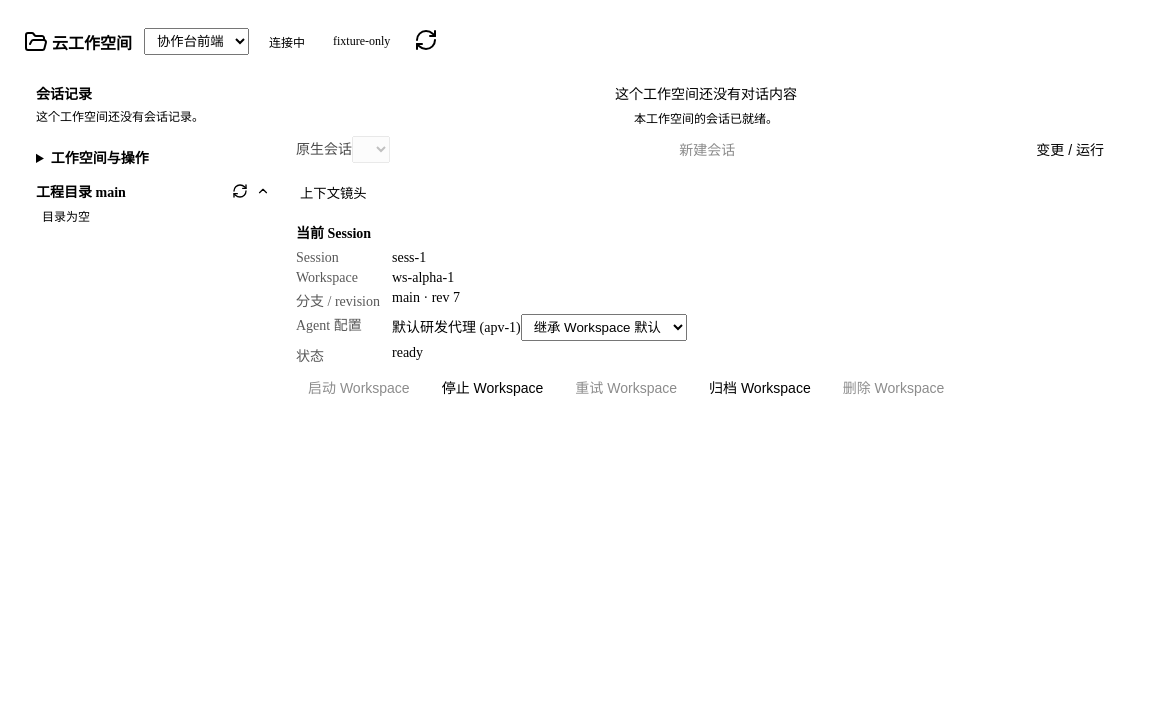
Test: 2-7 上下文镜头 › §11.17 按运行关闭单条记忆：不绑定运行不给开关，选定运行后开关只作用于该运行
Click the button "上下文镜头": point(333, 192) [296,179,371,206]
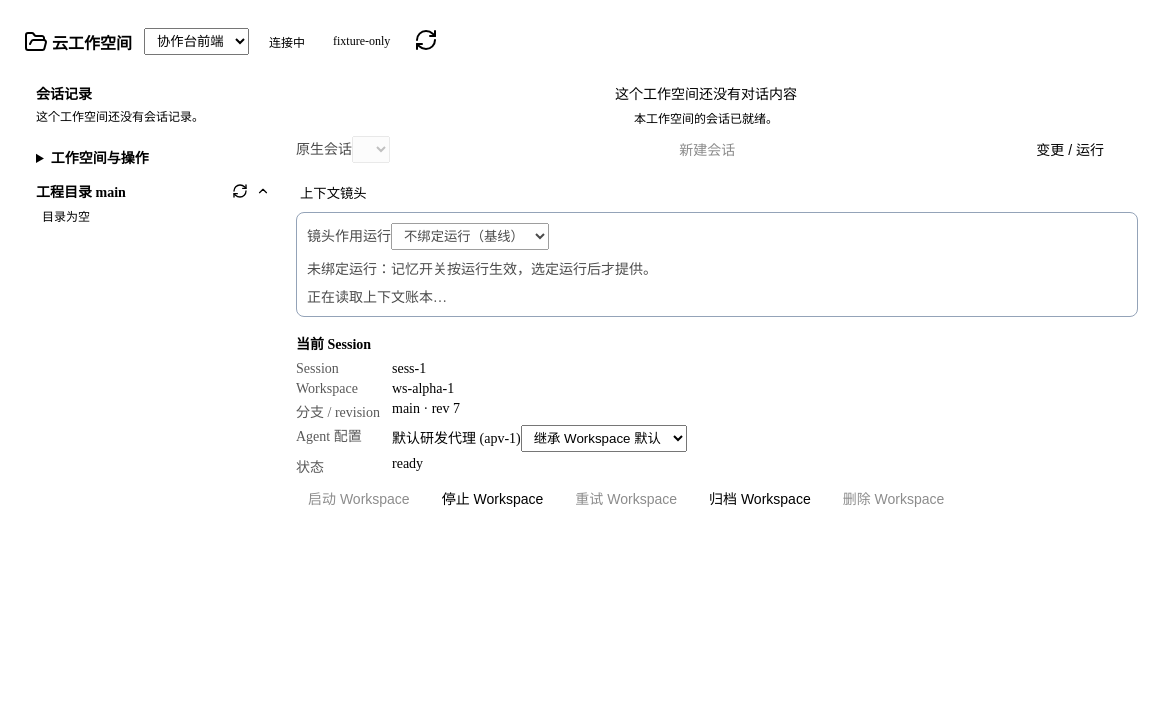
Expected: the button "关闭本次运行的影响" is not shown
Select "run-seed-1" in the dropdown labelled "镜头作用运行": point(470, 236) [391,223,549,250]
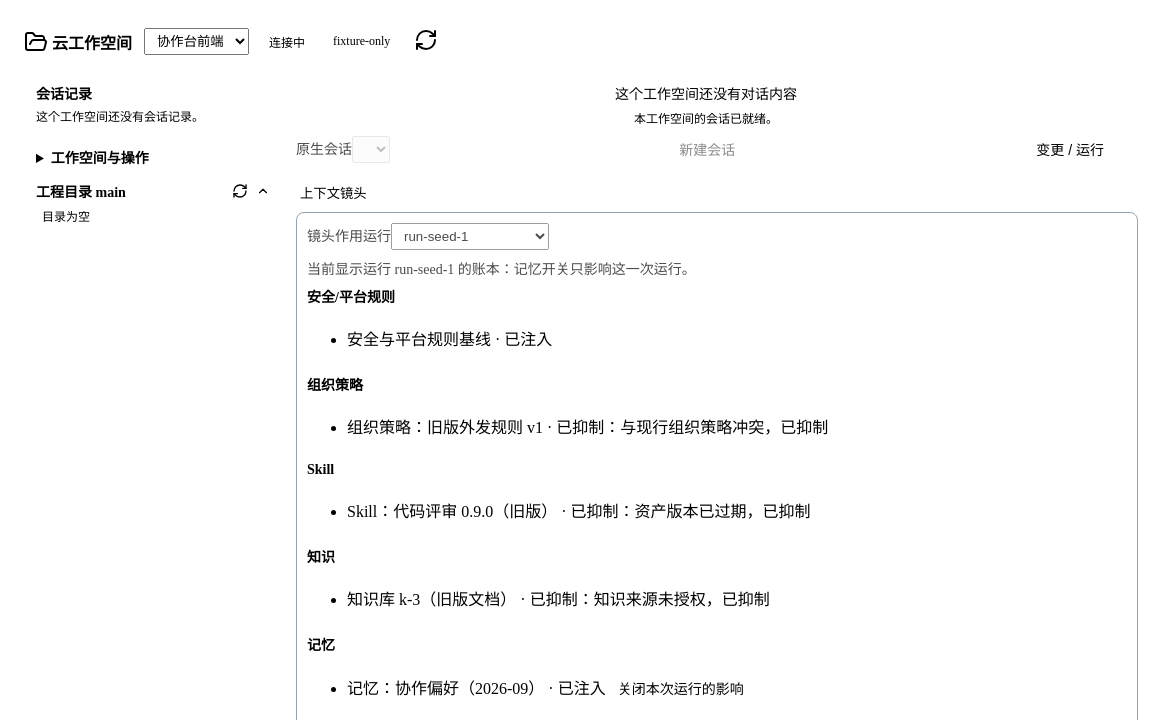
Click the button "关闭本次运行的影响": point(681, 688) [606,674,756,702]
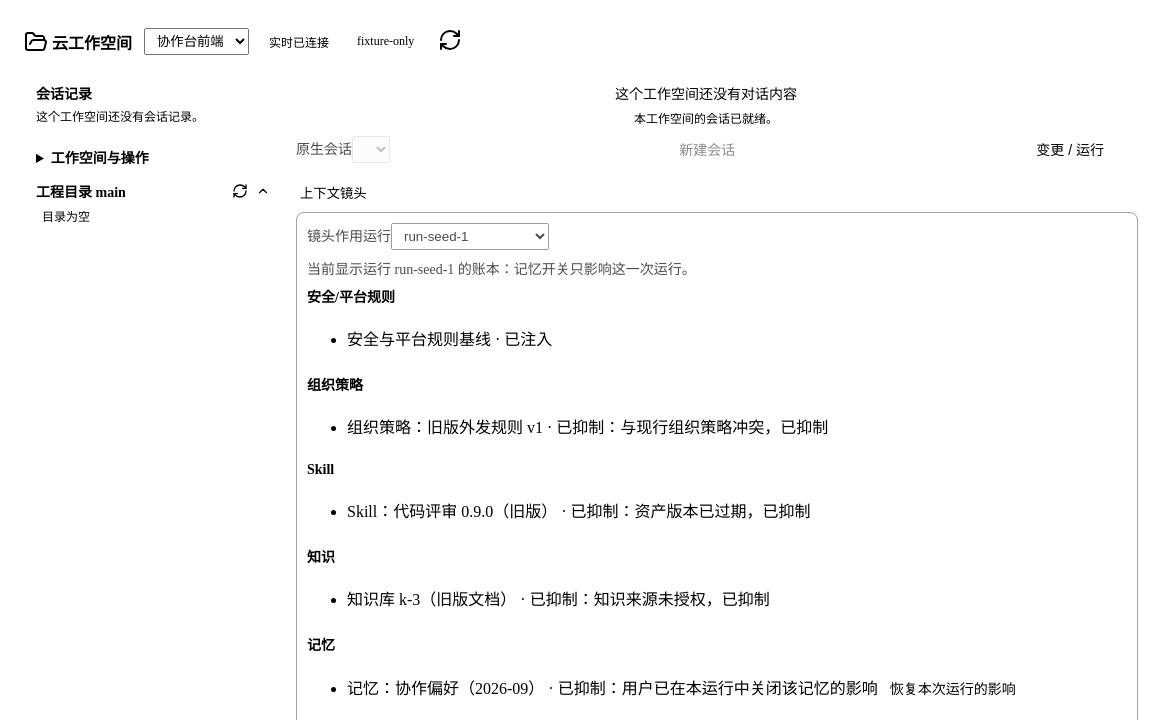
Expected: the list item "记忆：协作偏好（2026-09） · 已抑制：用户已在本运行中关闭该记忆的影响 恢复本次运行的影响" is shown, [347,674,1127,702]
Expected: the button "恢复本次运行的影响" is shown, [878,674,1028,702]
